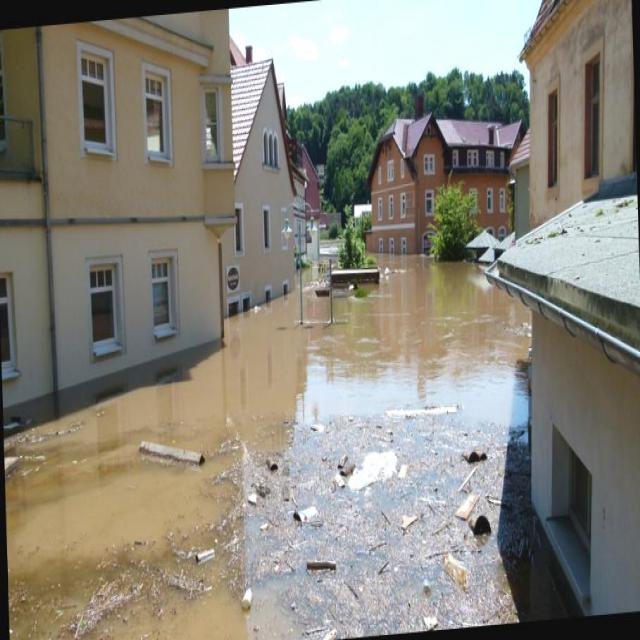flood: (0, 222, 530, 525)
